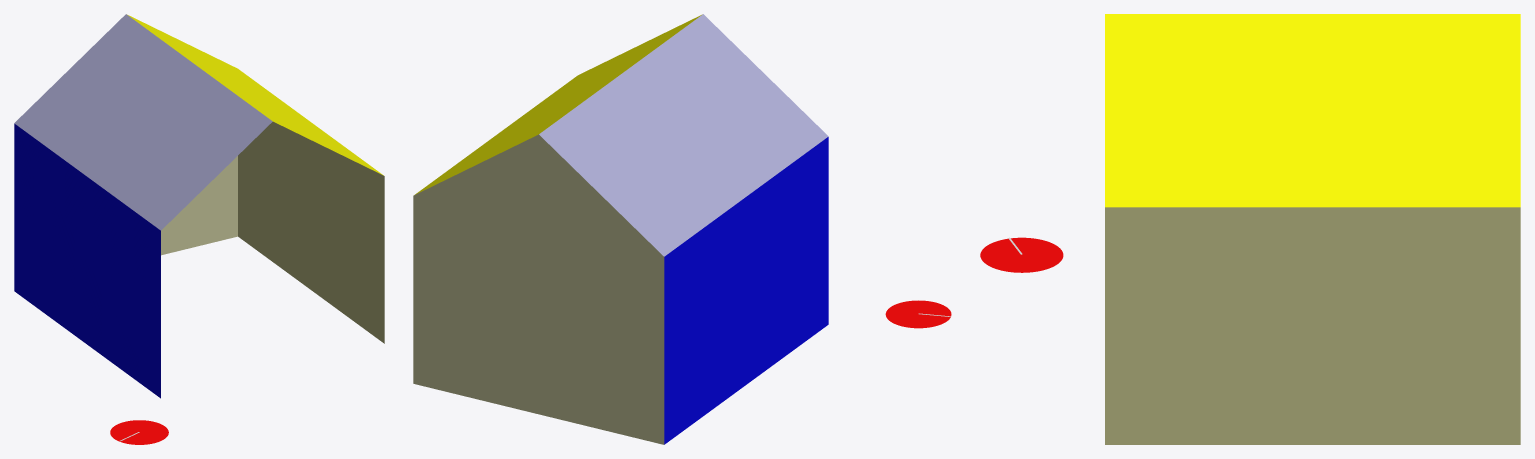
The model's file is result.glb.
3 renders of one model, left to right at view 1: azimuth 30°, elevation 25°; view 2: azimuth 150°, elevation 25°; view 3: azimuth 270°, elevation 25°, orthographic. The views are drawn at different scales.
Visible parts, largest first — view 1: d3411b7f-9e8a-4c2c-aa69-70d531166f03__undefined, 183e5ffb-4695-4e98-b76a-87fa0d5e8f6f__undefined, 598f21c1-19ec-45f2-a6e7-b0a95219165a__undefined, ee7fd0dd-7810-4233-869b-627eb639b09f__undefined, d7035bdb-ab8b-4a67-894d-fcdee50852ff__undefined, 0196b8a6-42e5-4879-9bb0-88a36acf3fe3__Circle; view 2: d7035bdb-ab8b-4a67-894d-fcdee50852ff__undefined, d3411b7f-9e8a-4c2c-aa69-70d531166f03__undefined, 183e5ffb-4695-4e98-b76a-87fa0d5e8f6f__undefined, ee7fd0dd-7810-4233-869b-627eb639b09f__undefined, 0196b8a6-42e5-4879-9bb0-88a36acf3fe3__Circle; view 3: 598f21c1-19ec-45f2-a6e7-b0a95219165a__undefined, ee7fd0dd-7810-4233-869b-627eb639b09f__undefined, 0196b8a6-42e5-4879-9bb0-88a36acf3fe3__Circle.
Boxes of the visible parts, box(x1,y1,x2,y2) form: d3411b7f-9e8a-4c2c-aa69-70d531166f03__undefined: box(14, 14, 272, 230); 183e5ffb-4695-4e98-b76a-87fa0d5e8f6f__undefined: box(14, 123, 160, 398); 598f21c1-19ec-45f2-a6e7-b0a95219165a__undefined: box(238, 121, 384, 343); ee7fd0dd-7810-4233-869b-627eb639b09f__undefined: box(128, 15, 383, 175); d7035bdb-ab8b-4a67-894d-fcdee50852ff__undefined: box(161, 156, 237, 255); 0196b8a6-42e5-4879-9bb0-88a36acf3fe3__Circle: box(110, 420, 168, 444); d7035bdb-ab8b-4a67-894d-fcdee50852ff__undefined: box(413, 134, 664, 444); d3411b7f-9e8a-4c2c-aa69-70d531166f03__undefined: box(539, 14, 828, 256); 183e5ffb-4695-4e98-b76a-87fa0d5e8f6f__undefined: box(664, 137, 828, 444); ee7fd0dd-7810-4233-869b-627eb639b09f__undefined: box(415, 14, 702, 194); 0196b8a6-42e5-4879-9bb0-88a36acf3fe3__Circle: box(885, 300, 951, 328); 598f21c1-19ec-45f2-a6e7-b0a95219165a__undefined: box(1105, 207, 1520, 444); ee7fd0dd-7810-4233-869b-627eb639b09f__undefined: box(1105, 14, 1520, 207); 0196b8a6-42e5-4879-9bb0-88a36acf3fe3__Circle: box(980, 237, 1063, 272).
Size of the model in its own units: 590 by 469 by 650.
